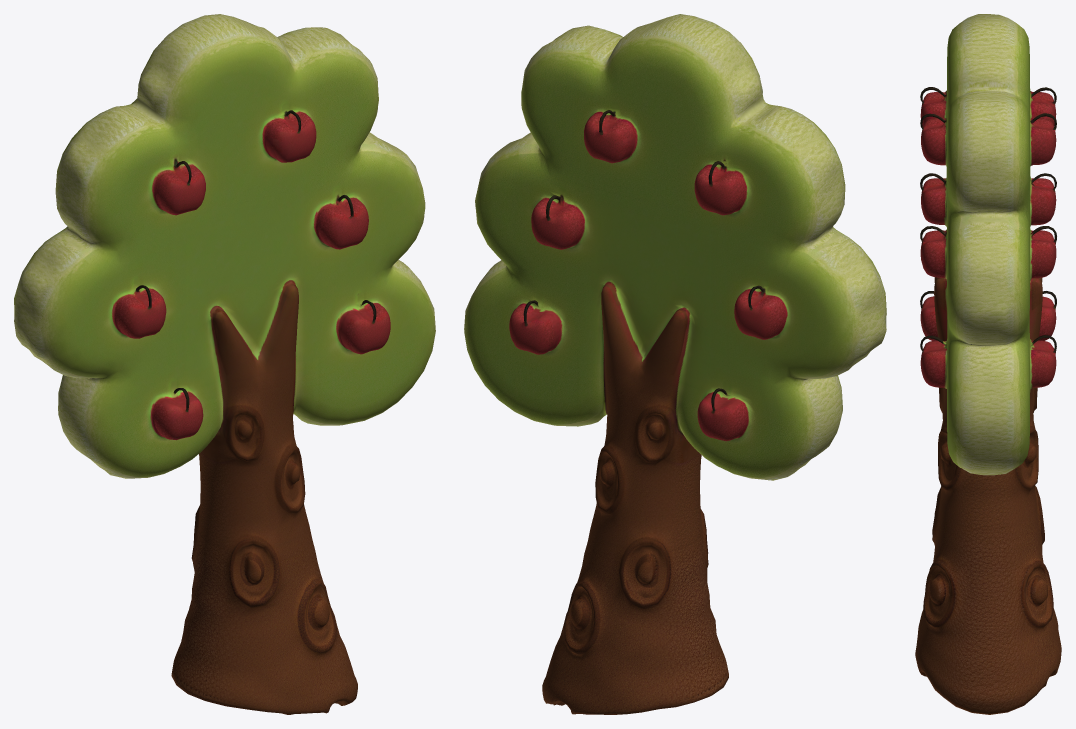
Rendered from apple-tree.glb.
The picture shows the model from 3 angles, left to right: view 1: azimuth 30°, elevation 25°; view 2: azimuth 150°, elevation 25°; view 3: azimuth 270°, elevation 25°; orthographic projection. The views are drawn at different scales.
Visible parts, largest first — view 1: tripo_node_15312533-5db5-4a95-9511-e7ef6212ab9a; view 2: tripo_node_15312533-5db5-4a95-9511-e7ef6212ab9a; view 3: tripo_node_15312533-5db5-4a95-9511-e7ef6212ab9a.
Boxes of the visible parts, x1=… form: tripo_node_15312533-5db5-4a95-9511-e7ef6212ab9a: x1=14, y1=14, x2=435, y2=714; tripo_node_15312533-5db5-4a95-9511-e7ef6212ab9a: x1=464, y1=14, x2=886, y2=714; tripo_node_15312533-5db5-4a95-9511-e7ef6212ab9a: x1=915, y1=14, x2=1061, y2=714.
Bounding box in the file's own units: 0.5871 × 0.9781 × 0.2033.
1 material, 1 textured.
